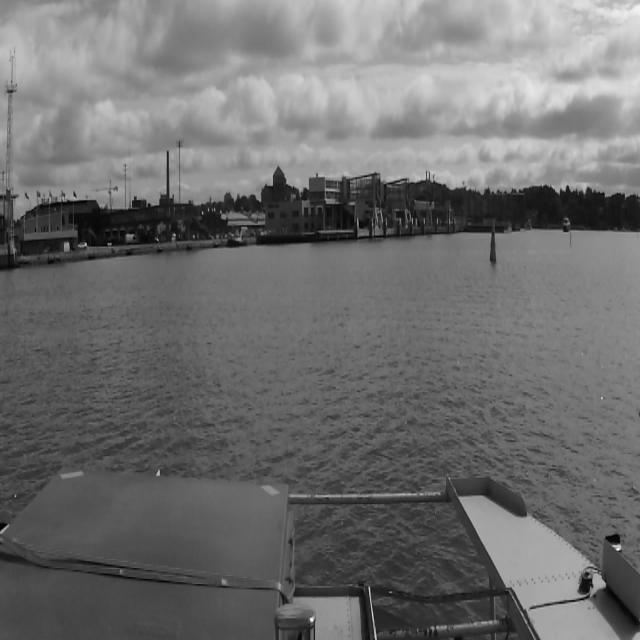buoy: (488, 228, 498, 260)
ship: (228, 237, 247, 249), (561, 220, 569, 234)
